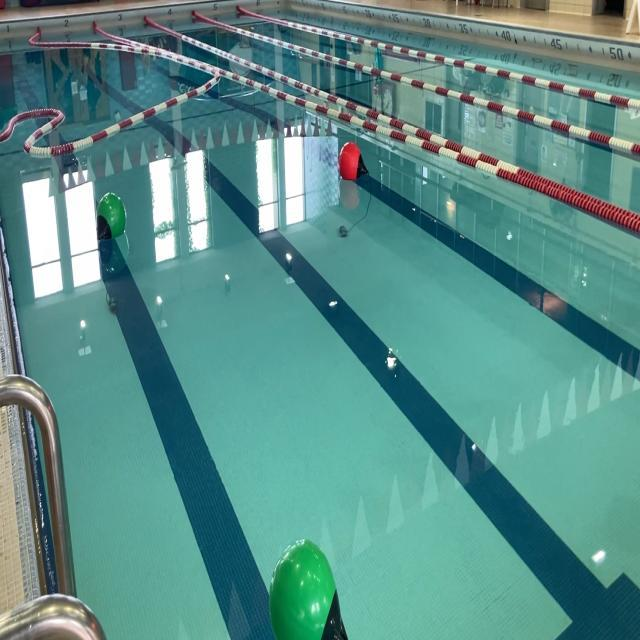buoy: (268, 539, 349, 640), (96, 192, 126, 242), (338, 139, 371, 181)
